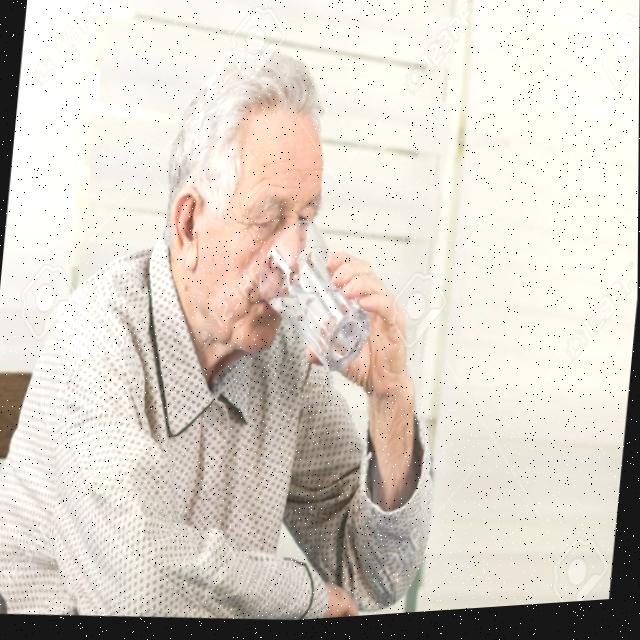eating-person: (0, 15, 479, 640)
